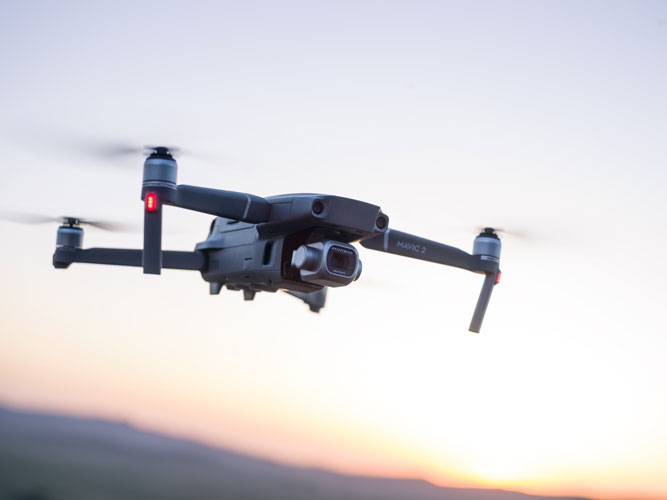drone: (1, 125, 563, 356)
